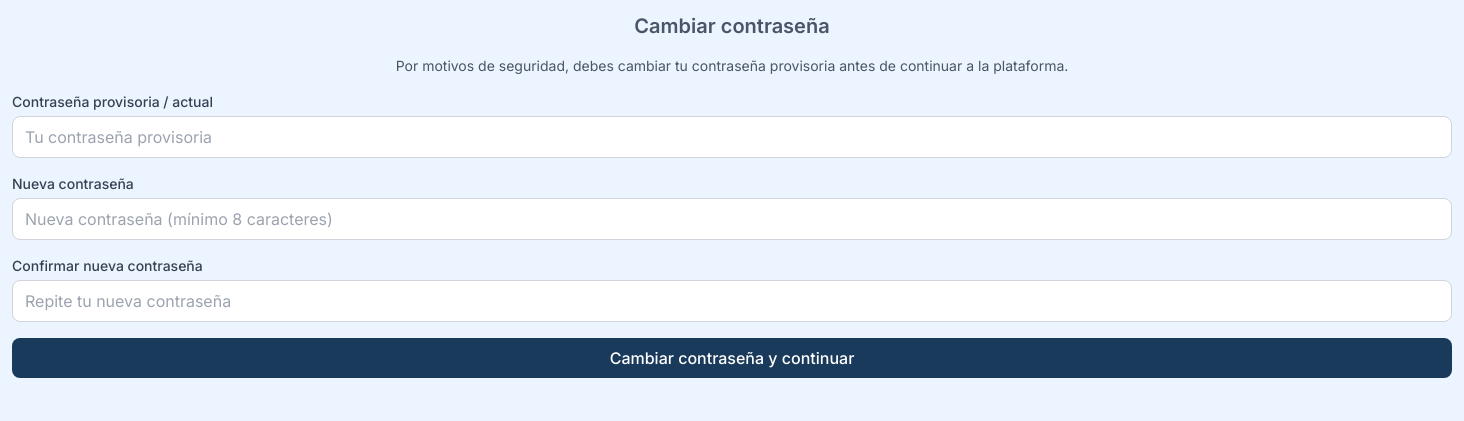
ChangePasswordPage (relevo-web) › valida que la nueva contraseña tenga al menos 8 caracteres
Type "oldPass1" into the password field labelled "Contraseña provisoria / actual" at (732, 137), box [12,116,1452,158]
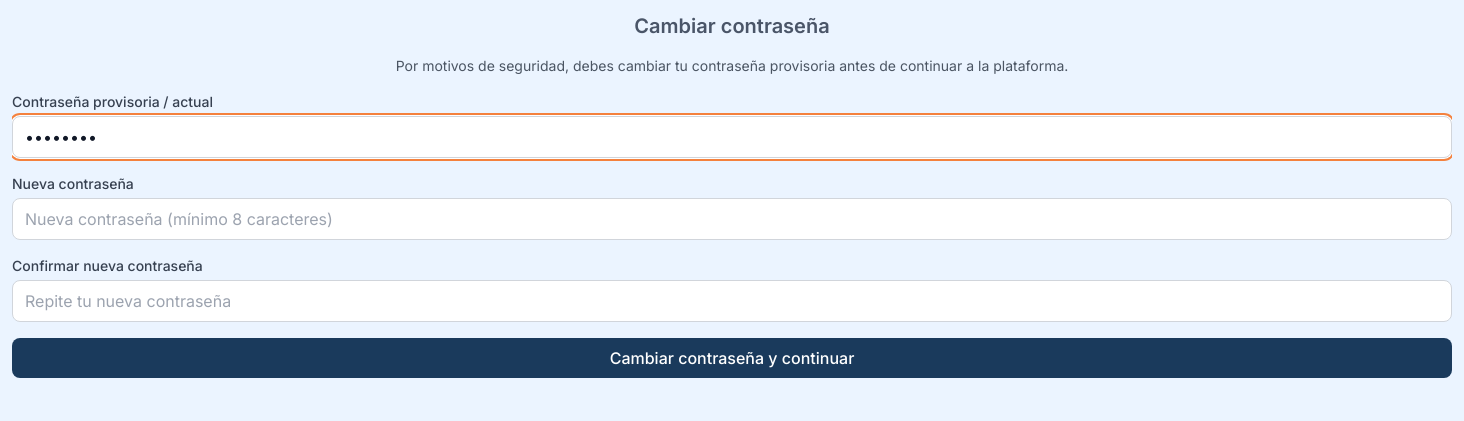
Type "1234567" into the password field labelled "Nueva contraseña" at (732, 219), box [12,198,1452,240]
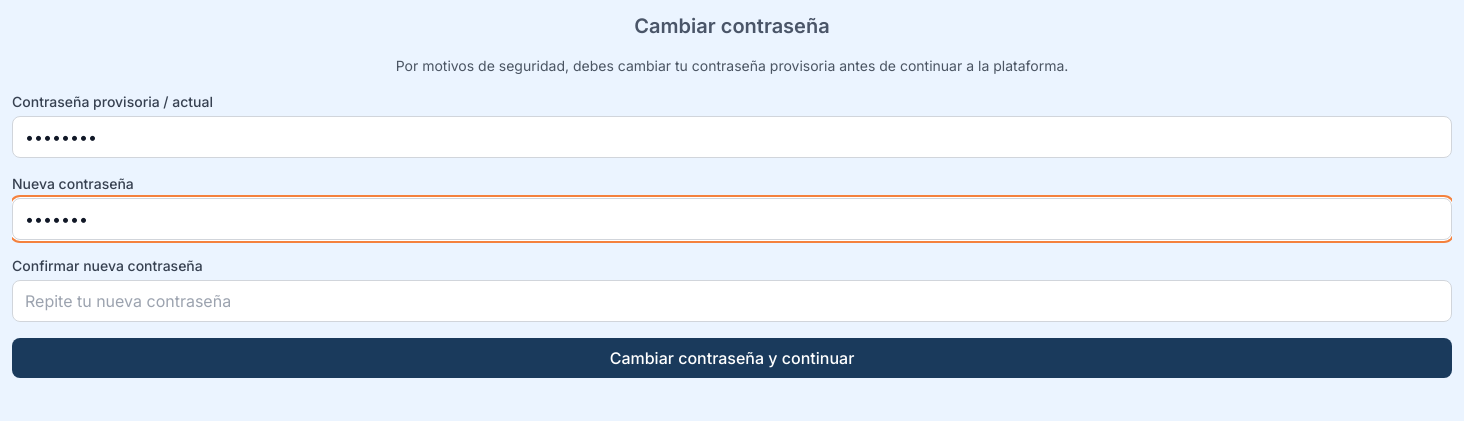
Type "1234567" into the password field labelled "Confirmar nueva contraseña" at (732, 301), box [12,280,1452,322]
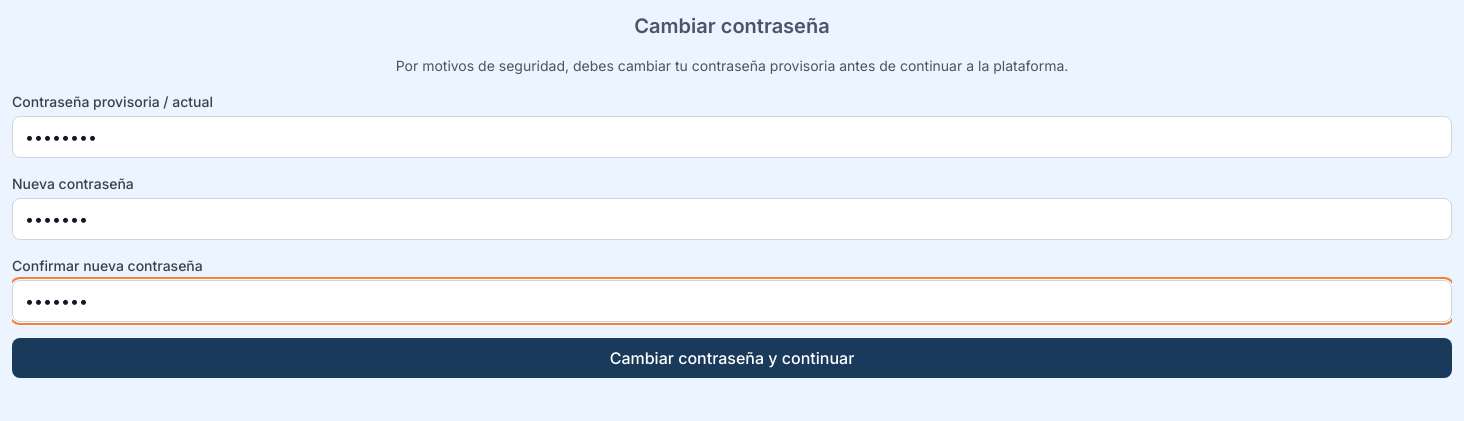
Click the button "Cambiar contraseña y continuar" at (732, 358), box [12,338,1452,378]
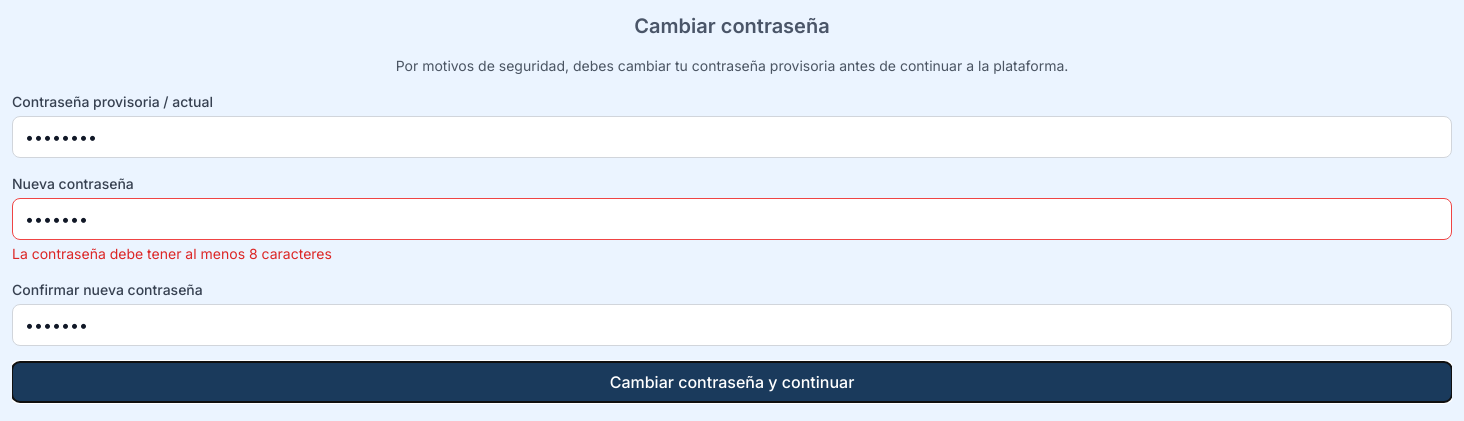
Expected: the text "La contraseña debe tener al menos 8 caracteres" is shown, [12,245,332,262]
